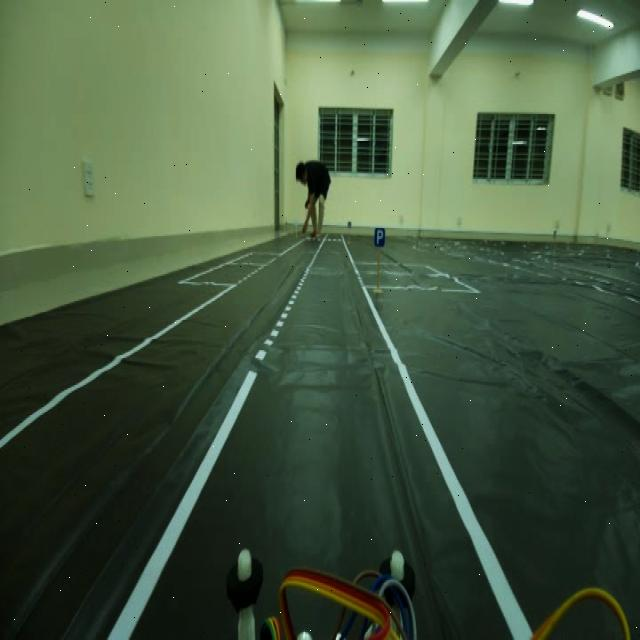parking: (368, 217, 389, 252)
